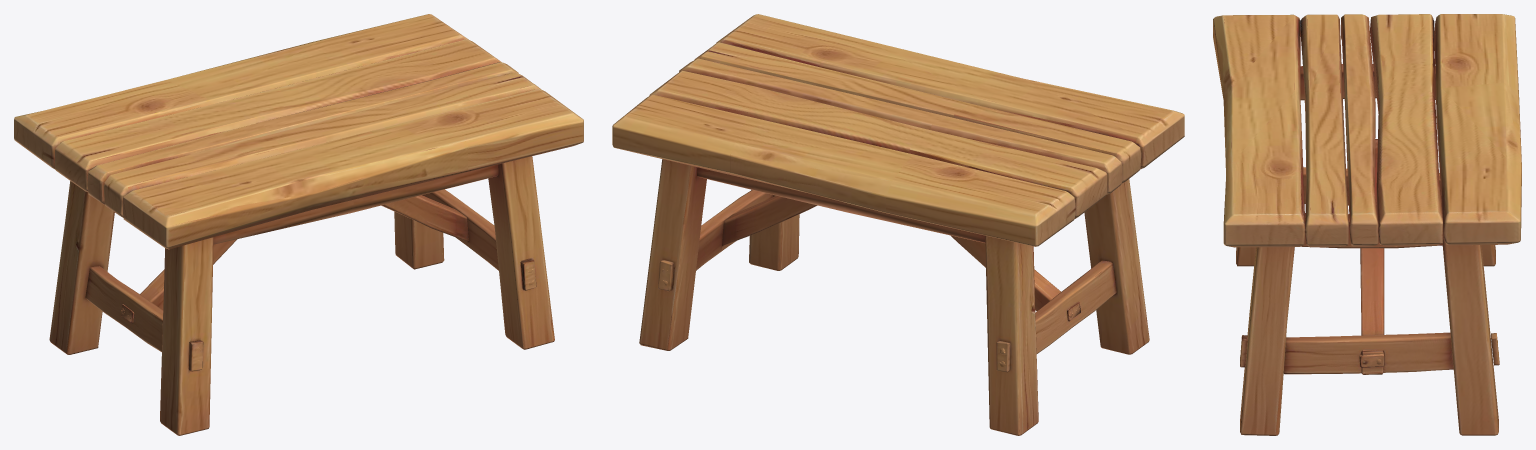
Rendered from Background_Table.glb.
3 views of the same model, side by side, from view 1: azimuth 30°, elevation 25°; view 2: azimuth 150°, elevation 25°; view 3: azimuth 270°, elevation 25° (orthographic).
Parts seen in each view (by area): view 1: tripo_node_575cef66-824a-4b8b-9d9d-249e1b6e23b7; view 2: tripo_node_575cef66-824a-4b8b-9d9d-249e1b6e23b7; view 3: tripo_node_575cef66-824a-4b8b-9d9d-249e1b6e23b7.
Boxes of the visible parts, x1,y1,x2,y2 form: tripo_node_575cef66-824a-4b8b-9d9d-249e1b6e23b7: [14, 14, 583, 435]; tripo_node_575cef66-824a-4b8b-9d9d-249e1b6e23b7: [612, 14, 1184, 435]; tripo_node_575cef66-824a-4b8b-9d9d-249e1b6e23b7: [1213, 14, 1521, 435].
Size of the model in its own units: 0.998 by 0.5137 by 0.627.
Materials: 1 (1 with a texture image).
